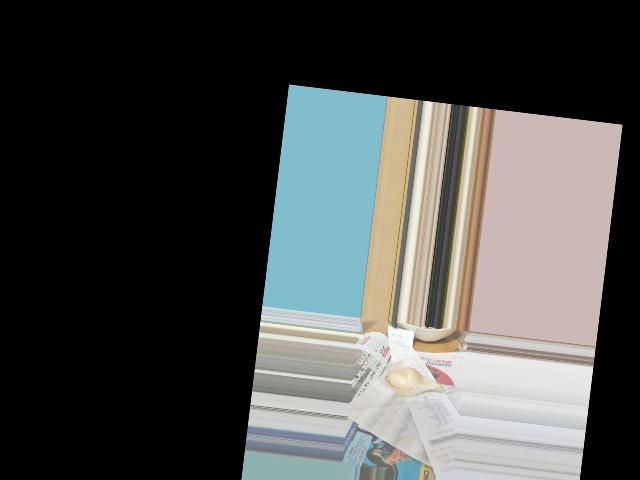onion: (382, 365, 439, 398)
